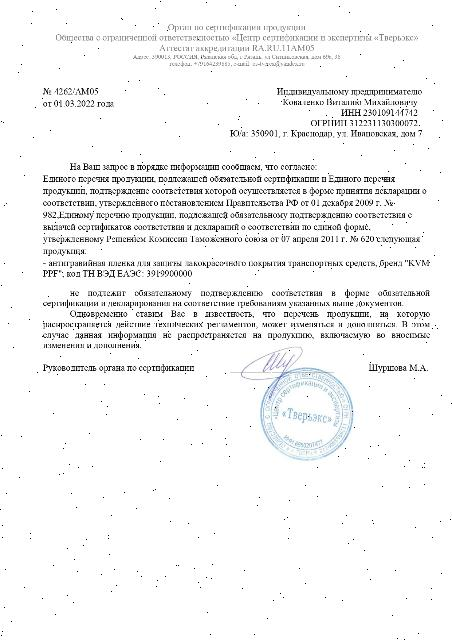stamp: (260, 366, 354, 460)
